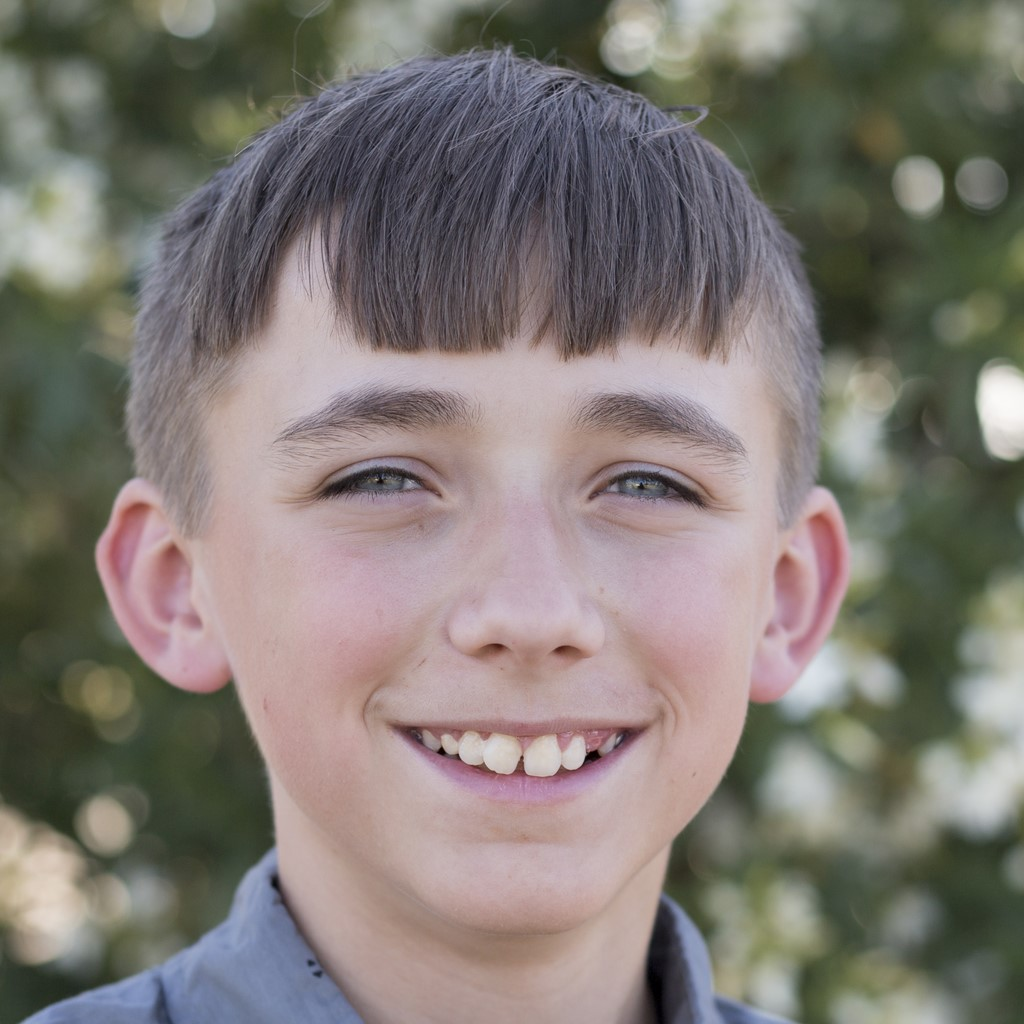sin_mascara: (203, 162, 788, 938)
